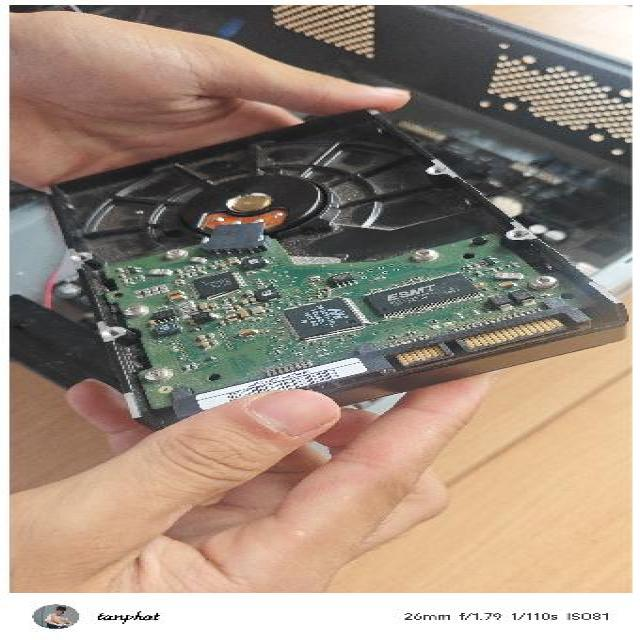DISK: (34, 100, 629, 432)
